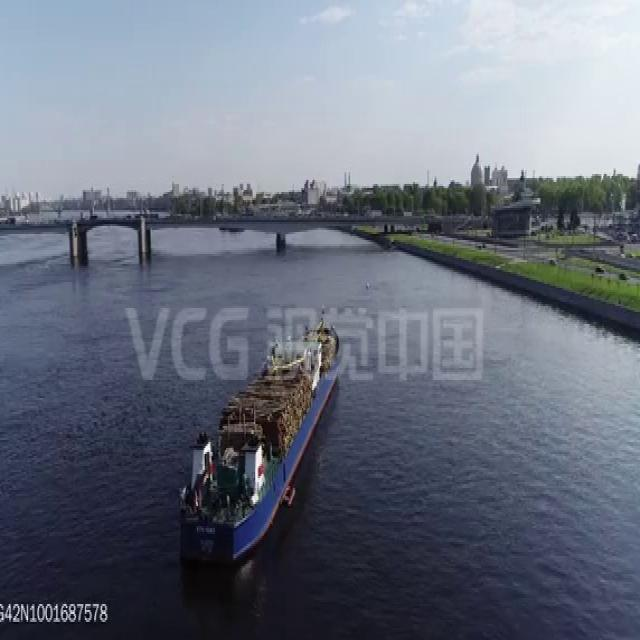cargoship: (180, 301, 342, 570)
